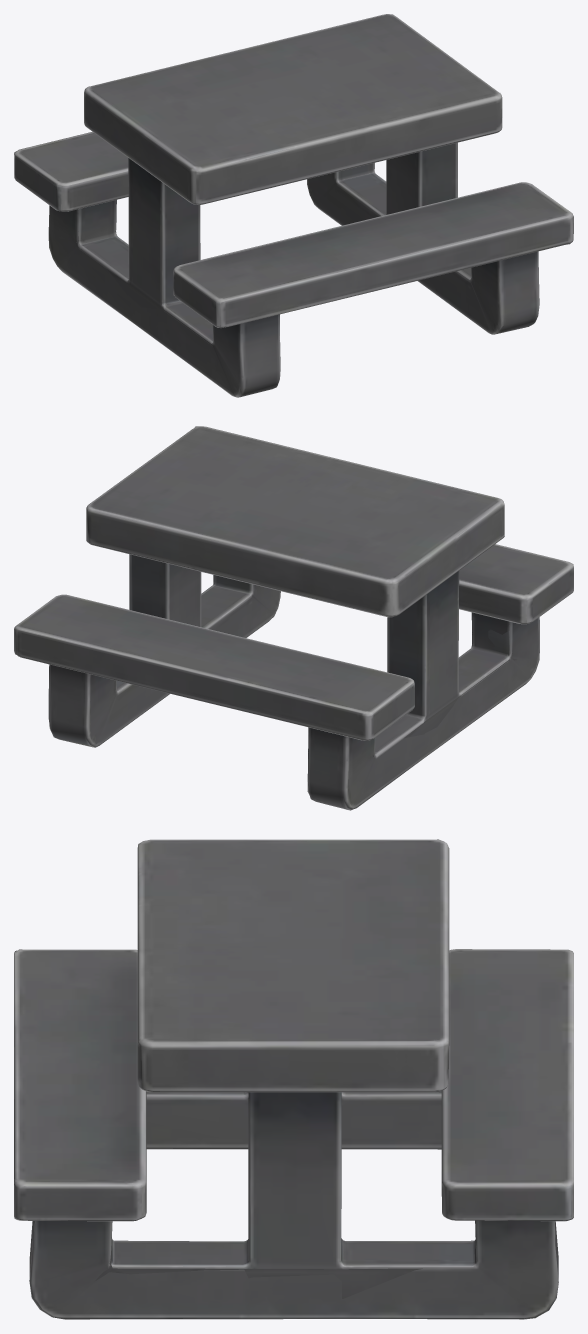
Rendered from picnic-table.glb.
3 views of the same model, one above another, from view 1: azimuth 30°, elevation 25°; view 2: azimuth 150°, elevation 25°; view 3: azimuth 270°, elevation 25° (orthographic). The views are drawn at different scales.
Visible parts, largest first — view 1: meshy-picnic-table; view 2: meshy-picnic-table; view 3: meshy-picnic-table.
Boxes of the visible parts, <box> form: meshy-picnic-table: <box>14,14,573,397</box>; meshy-picnic-table: <box>14,426,573,810</box>; meshy-picnic-table: <box>14,839,573,1319</box>.
Size of the model in its own units: 1.62 by 0.9 by 1.62.
1 material, 1 textured.
